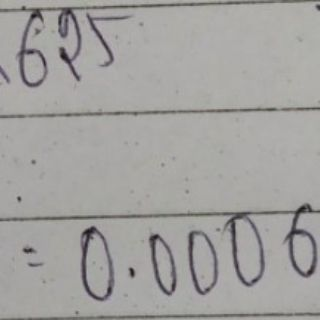.: (126, 263, 138, 279)
0: (73, 223, 119, 302), (228, 209, 268, 289), (145, 229, 180, 299), (185, 229, 221, 296)
2: (56, 9, 86, 82)
5: (88, 12, 135, 66)
6: (16, 8, 51, 89), (284, 204, 318, 280)
